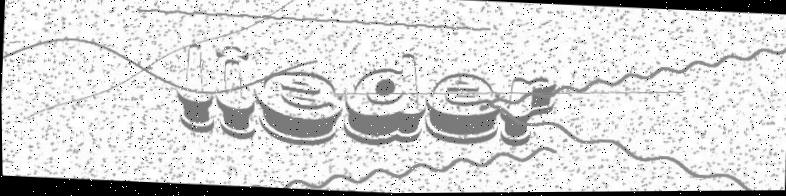d: (340, 48, 425, 151)
e: (250, 56, 343, 151), (422, 68, 501, 147)
l: (170, 39, 219, 134)
o: (212, 48, 255, 139)
r: (499, 71, 560, 152)
